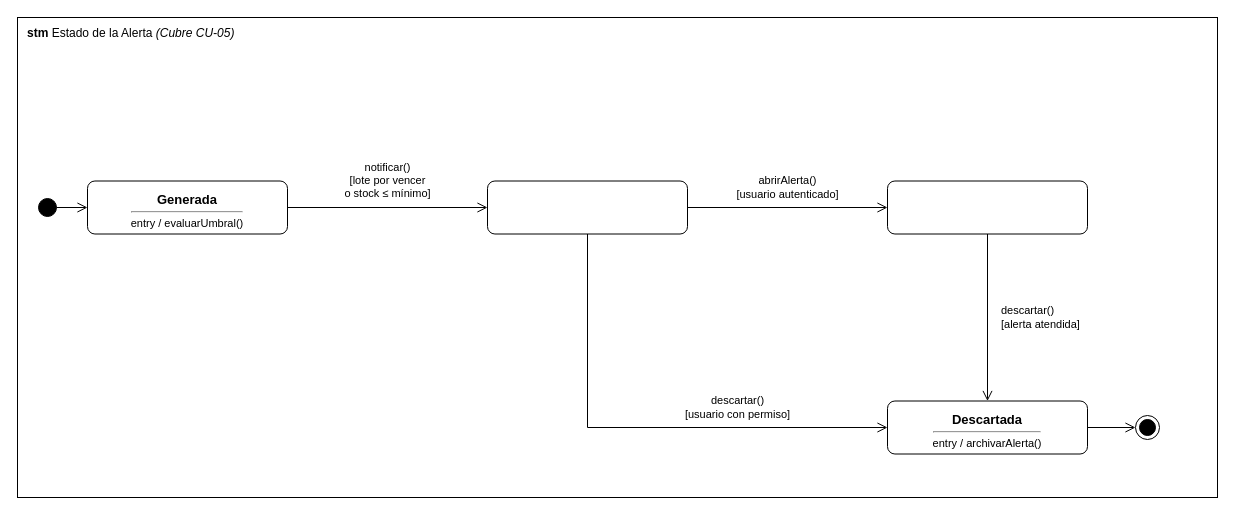
This 1235x515 diagram has some shape labels left out. Here are the shapes that lost their labels. From the top down, the box of each, then its label:
(486, 180, 688, 234): No Leída entry / mostrarAviso()
(886, 180, 1088, 234): Leída entry / registrarLectura()
